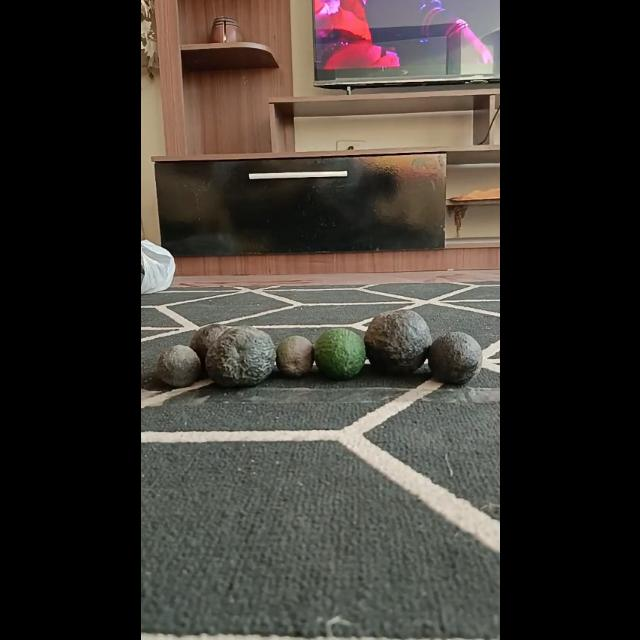Primera: (363, 308, 431, 374), (204, 327, 276, 388)
Segunda: (427, 331, 481, 385), (313, 328, 365, 379)
Tercera: (156, 344, 200, 388), (275, 335, 313, 377)
